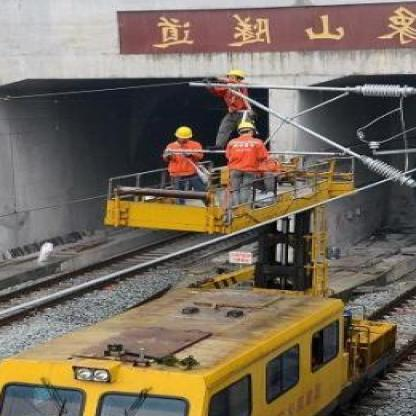bee: (232, 118, 261, 142), (170, 121, 196, 143), (222, 66, 250, 86)
hornet: (222, 122, 264, 219), (160, 125, 208, 206), (213, 68, 251, 146)
